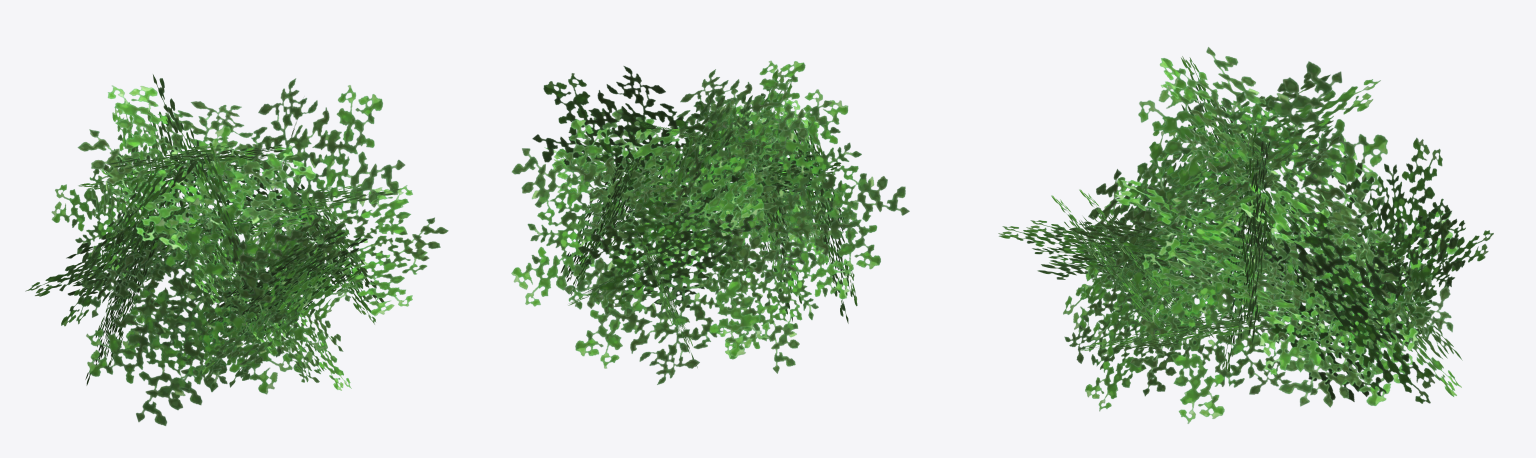
Rendered from OAK_canopy.glb.
3 views of the same model, side by side, from view 1: azimuth 30°, elevation 25°; view 2: azimuth 150°, elevation 25°; view 3: azimuth 270°, elevation 25° (orthographic). The views are drawn at different scales.
Visible parts, largest first — view 1: branch leaf plane.019, branch leaf plane.014, branch leaf plane.003, branch leaf plane.011, branch leaf plane.001, branch leaf plane.013, branch leaf plane.010, branch leaf plane.018, branch leaf plane.004, branch leaf plane.021, branch leaf plane.016, branch leaf plane.005 (+10 smaller); view 2: branch leaf plane.007, branch leaf plane.013, branch leaf plane.020, branch leaf plane.022, branch leaf plane.005, branch leaf plane.012, branch leaf plane.003, branch leaf plane.015, branch leaf plane.021, branch leaf plane.019, branch leaf plane.002, branch leaf plane.010 (+10 smaller); view 3: branch leaf plane.021, branch leaf plane, branch leaf plane.022, branch leaf plane.020, branch leaf plane.002, branch leaf plane.015, branch leaf plane.014, branch leaf plane.006, branch leaf plane.005, branch leaf plane.016, branch leaf plane.011, branch leaf plane.018 (+11 smaller).
Boxes of the visible parts, x1,y1,x2,y2 form: branch leaf plane.019: (86,206,292,425); branch leaf plane.014: (77,85,316,250); branch leaf plane.003: (195,78,405,306); branch leaf plane.011: (121,187,327,405); branch leaf plane.001: (250,185,448,316); branch leaf plane.013: (59,156,204,326); branch leaf plane.010: (178,216,323,380); branch leaf plane.018: (201,223,347,387); branch leaf plane.004: (51,147,193,323); branch leaf plane.021: (147,74,249,295); branch leaf plane.016: (235,266,351,390); branch leaf plane.005: (91,98,187,280); branch leaf plane.007: (563,182,777,384); branch leaf plane.013: (703,89,909,280); branch leaf plane.020: (619,60,832,230); branch leaf plane.022: (511,119,685,315); branch leaf plane.005: (578,185,762,307); branch leaf plane.012: (702,193,853,373); branch leaf plane.003: (532,66,739,247); branch leaf plane.015: (552,105,777,259); branch leaf plane.021: (662,69,792,254); branch leaf plane.019: (793,121,857,323); branch leaf plane.002: (560,158,637,295); branch leaf plane.010: (689,111,857,263); branch leaf plane.021: (1136,61,1387,315); branch leaf plane: (1129,234,1325,423); branch leaf plane.022: (1252,212,1434,403); branch leaf plane.020: (1159,47,1372,247); branch leaf plane.002: (1260,209,1418,407); branch leaf plane.015: (1115,179,1368,324); branch leaf plane.014: (1145,73,1380,237); branch leaf plane.006: (1237,187,1457,406); branch leaf plane.005: (1318,137,1462,341); branch leaf plane.016: (1064,238,1214,411); branch leaf plane.011: (1091,149,1250,357); branch leaf plane.018: (998,226,1203,292).
Size of the model in its own units: 0.1325 by 0.1033 by 0.1292.
5 materials, 5 textured.
